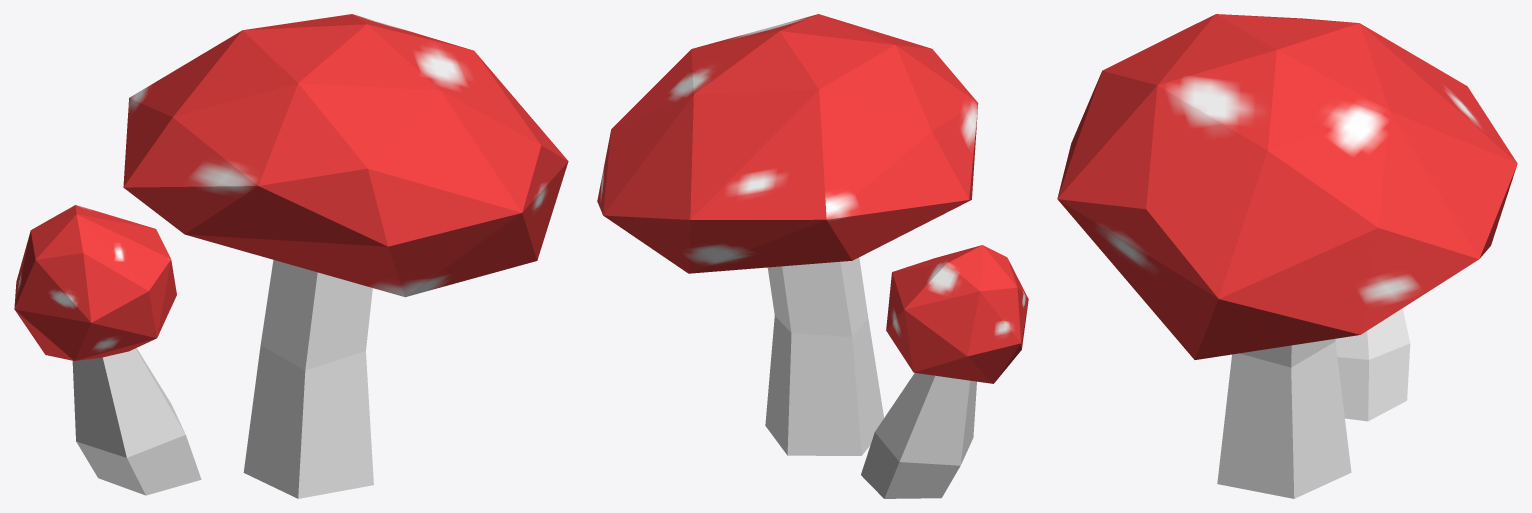
File: Mushroom_e_08.fbx
The picture shows the model from 3 angles, left to right: view 1: azimuth 30°, elevation 25°; view 2: azimuth 150°, elevation 25°; view 3: azimuth 270°, elevation 25°; orthographic projection. The views are drawn at different scales.
Parts seen in each view (by area): view 1: Mushroom_e_08; view 2: Mushroom_e_08; view 3: Mushroom_e_08.
Boxes of the visible parts, left/top/right/bottom form: Mushroom_e_08: left=14, top=14, right=568, bottom=498; Mushroom_e_08: left=597, top=14, right=1028, bottom=498; Mushroom_e_08: left=1057, top=14, right=1517, bottom=498.
Bounding box in the file's own units: 29.39 × 25.21 × 23.62.
